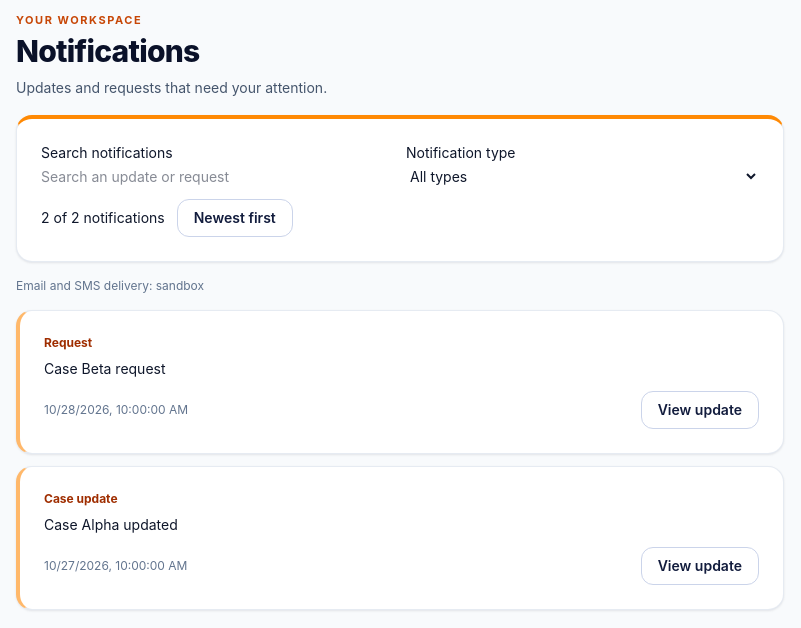
it: notifications combine search and type filters, sort chronologically and preserve destination links
Expected: the list item that starts with "Request" shows "Beta", [44,360,166,377]
Click the button "Newest first": (235, 218) [177,199,293,237]
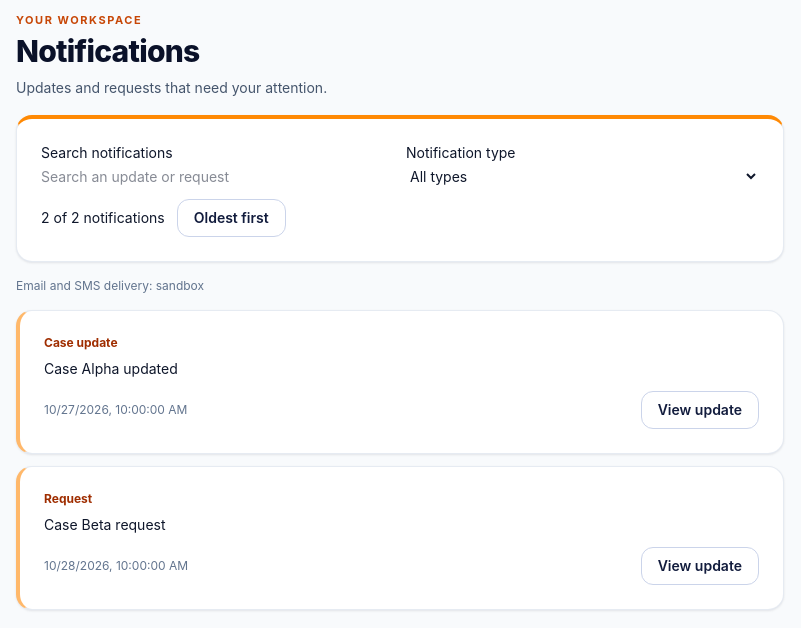
Result: the list item that starts with "Case update" shows "Alpha" at [44,360,178,377]
Select "REQUEST" in the dropdown labelled "Notification type": (582, 177) [406,167,759,186]
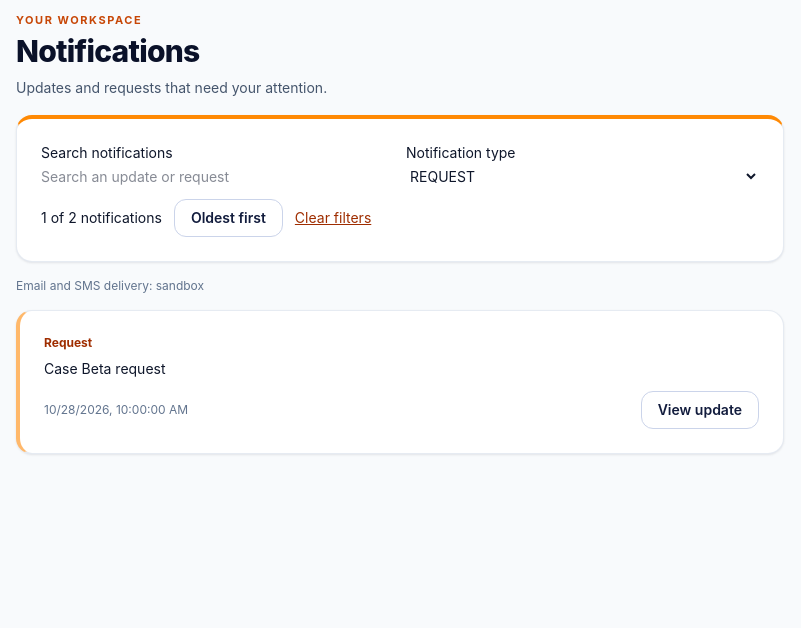
Result: the text "Case Alpha updated" is gone
In the search field labelled "Search notifications": (218, 177) [41,167,394,187], type "Alpha"
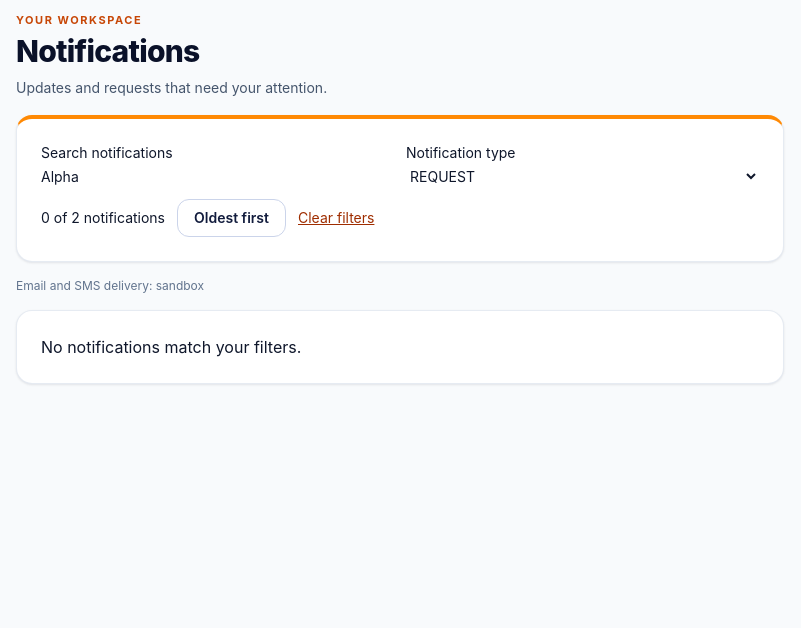
Result: the text "No notifications match your filters." is shown at [16,310,784,384]
Click the button "Clear filters": (336, 218) [298,208,374,228]
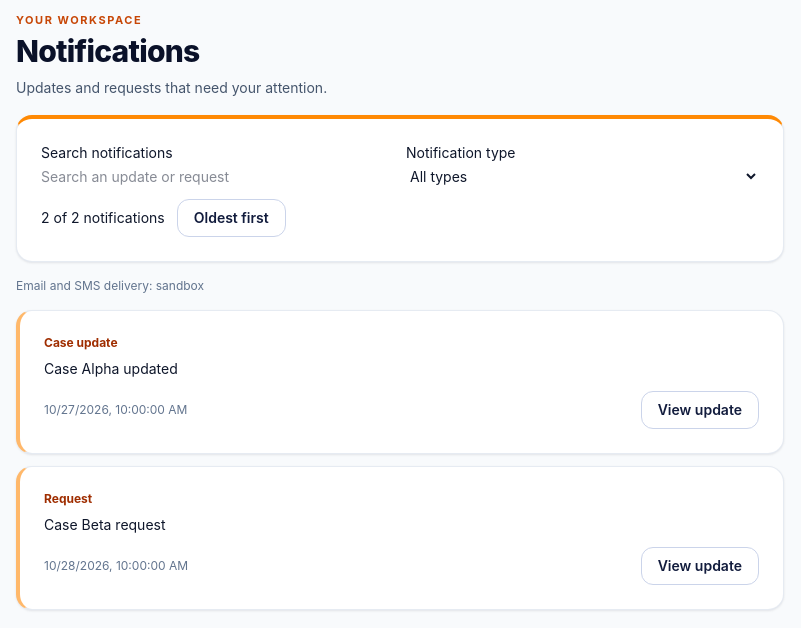
Result: the number of list items is 2 at [16,310,784,454]; [16,466,784,610]
